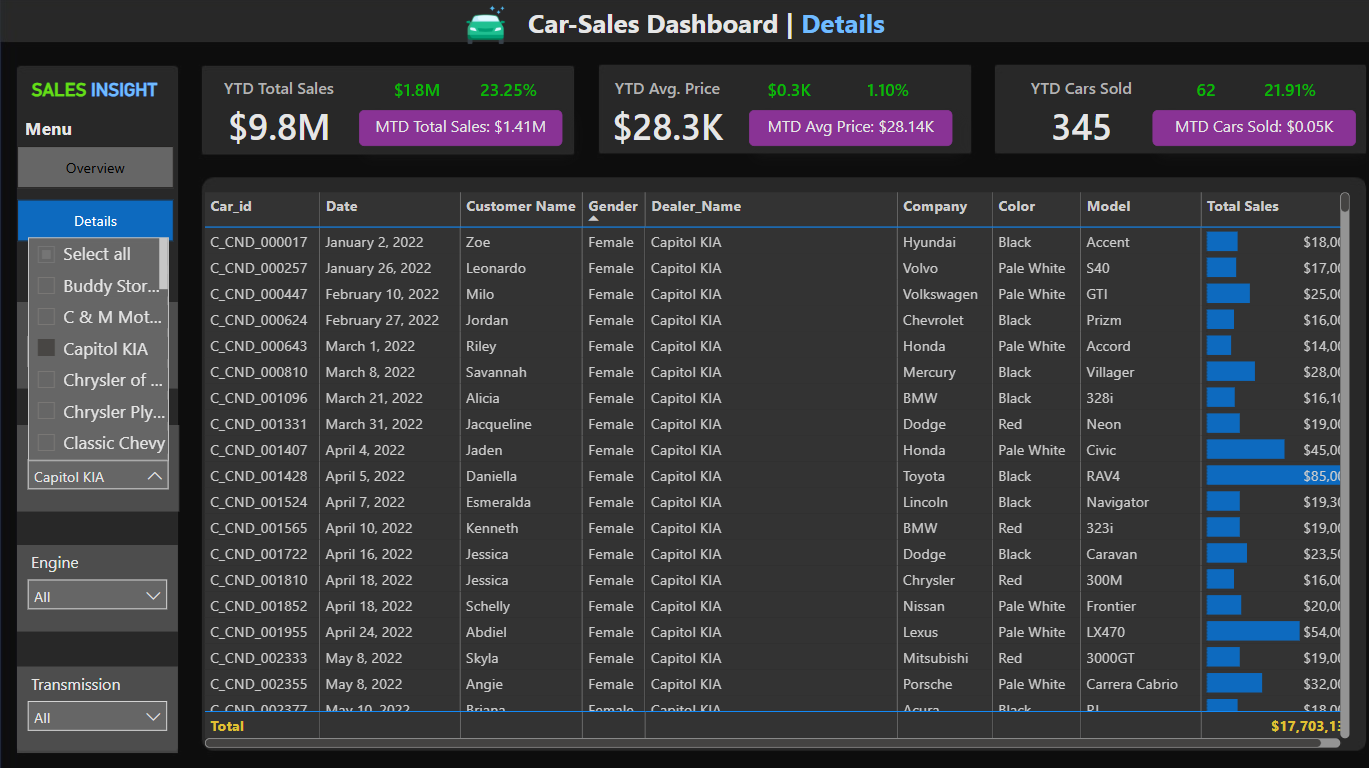

What the dashboard file says about the page in this screenshot:
{"tool":"powerbi","page":{"name":"Details","canvas":[1280,720],"ordinal":1},"visuals":[{"type":"card","title":"YTD Total Sales","fields":{"Values":["car_data.YTD Total Sales"]},"box":[184.7,72.7,148.4,69.7],"z":0},{"type":"card","fields":{"Values":["car_data.Sales Difference"]},"box":[327.1,68.1,118.1,34.8],"z":1000},{"type":"card","fields":{"Values":["car_data.YoY Sales Growth"]},"box":[419.4,68.1,101.5,34.8],"z":2000},{"type":"card","fields":{"Values":["car_data.MTD KPI"]},"box":[333.1,103,187.8,33.3],"z":3000},{"type":"card","title":"YTD Avg. Price","fields":{"Values":["car_data.YTD Avg Price"]},"box":[543.6,72.7,148.4,69.7],"z":4000},{"type":"card","fields":{"Values":["car_data.Avg Price Diff"]},"box":[670.8,68.1,118.1,34.8],"z":5000},{"type":"card","fields":{"Values":["car_data.YoY Avg Price Growth"]},"box":[763.2,68.1,118.1,34.8],"z":6000},{"type":"card","fields":{"Values":["car_data.MTD Avg Price KPI"]},"box":[693.5,103,187.8,33.3],"z":7000},{"type":"card","title":"YTD Cars Sold","fields":{"Values":["car_data.YTD Cars Sold"]},"box":[926.7,72.7,148.4,69.7],"z":8000},{"type":"card","fields":{"Values":["car_data.Car Sold Diff"]},"box":[1056.9,68.1,118.1,34.8],"z":9000},{"type":"card","fields":{"Values":["car_data.YoY Car Sold Growth"]},"box":[1141.7,68.1,101.5,34.8],"z":10000},{"type":"card","fields":{"Values":["car_data.MTD Cars Sold KPI"]},"box":[1066,103,187.8,33.3],"z":11000},{"type":"textbox","box":[445,0,417.4,46.8],"z":12000},{"type":"slicer","fields":{"Values":["car_data.Body Style"]},"box":[16.7,280.1,148.4,80.3],"z":13000},{"type":"slicer","fields":{"Values":["car_data.Dealer_Name"]},"box":[16.7,393.7,149.9,80.3],"z":14000},{"type":"slicer","fields":{"Values":["car_data.Engine"]},"box":[16.7,504.2,148.4,80.3],"z":15000},{"type":"slicer","fields":{"Values":["car_data.Transmission"]},"box":[16.7,616.3,148.4,80.3],"z":16000},{"type":"image","box":[106,233.2,62.1,48.5],"z":17000},{"type":"textbox","box":[29.2,241,101.9,46.8],"z":18000},{"type":"textbox","box":[10.6,68.1,154.4,36.3],"z":19000},{"type":"tableEx","fields":{"Values":["car_data.Car_id","car_data.Date","car_data.Customer Name","car_data.Gender","car_data.Dealer_Name","car_data.Company","car_data.Color","car_data.Model","car_data.Price ($)"]},"box":[184.7,172.6,1069,523.9],"z":20000},{"type":"pageNavigator","box":[16.7,136.3,145.4,89.3],"z":21000},{"type":"image","box":[419.4,0,59.1,46.9],"z":22000},{"type":"textbox","box":[4.5,103,83.3,46.9],"z":22001}]}

Visuals, with their boxes on the page's 1280x720 design canvas (x1, y1, x2, y2). These are canvas units, not pixel positions in the 1369x768 screenshot, which may show the page scaled, cropped or inside an application window:
"YTD Total Sales" card: 185/73/333/142
card - car_data.Sales Difference: 327/68/445/103
card - car_data.YoY Sales Growth: 419/68/521/103
card - car_data.MTD KPI: 333/103/521/136
"YTD Avg. Price" card: 544/73/692/142
card - car_data.Avg Price Diff: 671/68/789/103
card - car_data.YoY Avg Price Growth: 763/68/881/103
card - car_data.MTD Avg Price KPI: 694/103/881/136
"YTD Cars Sold" card: 927/73/1075/142
card - car_data.Car Sold Diff: 1057/68/1175/103
card - car_data.YoY Car Sold Growth: 1142/68/1243/103
card - car_data.MTD Cars Sold KPI: 1066/103/1254/136
textbox: 445/0/862/47
slicer - car_data.Body Style: 17/280/165/360
slicer - car_data.Dealer_Name: 17/394/167/474
slicer - car_data.Engine: 17/504/165/584
slicer - car_data.Transmission: 17/616/165/697
image: 106/233/168/282
textbox: 29/241/131/288
textbox: 11/68/165/104
tableEx - car_data.Car_id x car_data.Date: 185/173/1254/696
pageNavigator: 17/136/162/226
image: 419/0/478/47
textbox: 4/103/88/150
